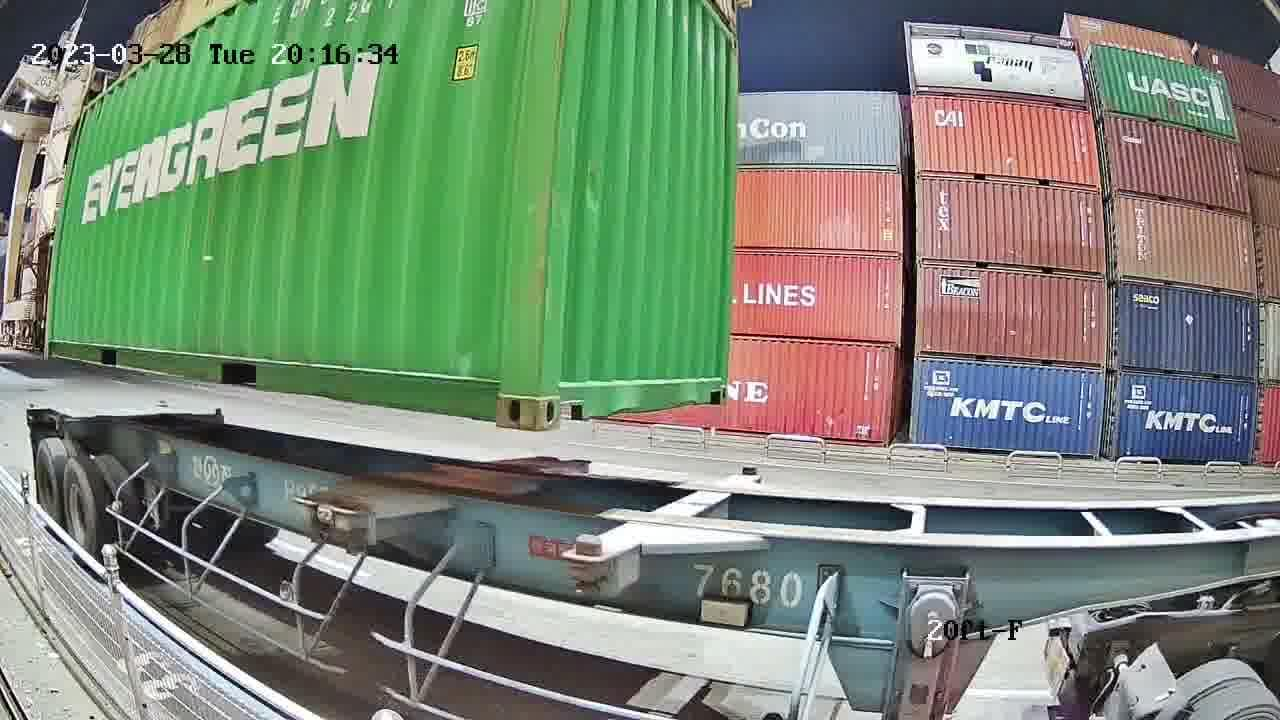Chassis: (563, 475, 759, 588)
Cone: (566, 534, 607, 597), (738, 463, 758, 476)
Hole_L: (538, 354, 597, 432)
Hole_R: (462, 349, 540, 430), (702, 362, 728, 404)
Tire: (62, 462, 101, 559), (37, 442, 62, 523)
